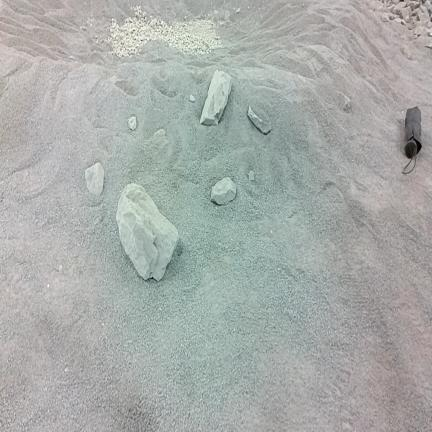Rock: (117, 184, 178, 280), (201, 70, 231, 125), (210, 177, 236, 205), (247, 106, 271, 134), (85, 162, 104, 196), (151, 128, 168, 150), (338, 92, 351, 112), (415, 9, 429, 26), (400, 7, 412, 21), (393, 2, 406, 14), (406, 0, 421, 10), (370, 0, 383, 10), (407, 16, 416, 29), (128, 116, 136, 130), (402, 47, 411, 59), (424, 0, 431, 13), (414, 27, 424, 36), (386, 4, 395, 13), (382, 12, 390, 22), (389, 14, 398, 20), (224, 11, 230, 20), (248, 171, 254, 180), (189, 94, 195, 102), (395, 17, 402, 23), (391, 0, 399, 5), (425, 43, 431, 49), (401, 19, 407, 25), (426, 22, 431, 29), (220, 22, 226, 27), (59, 265, 63, 271), (214, 10, 218, 15), (236, 8, 240, 13)
